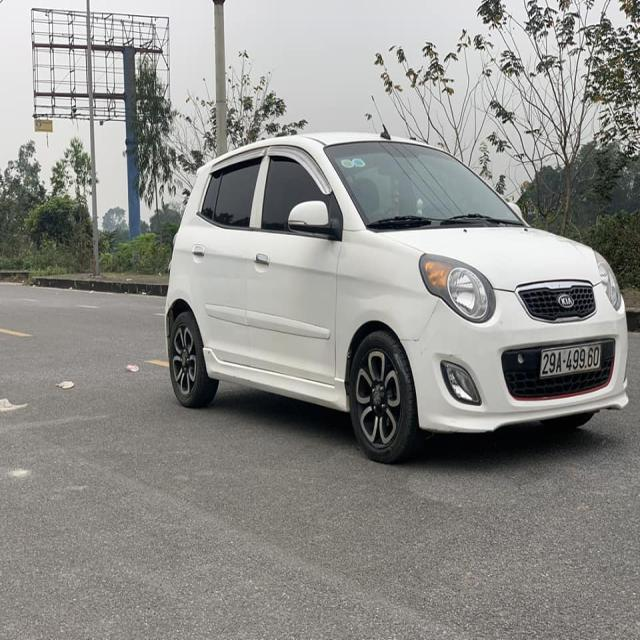car: (152, 126, 629, 463)
plate: (535, 340, 608, 379)
